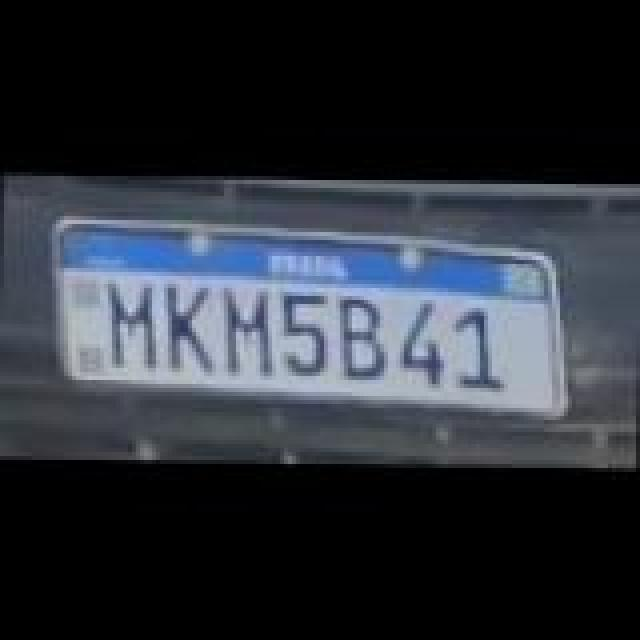1: (454, 306, 506, 386)
4: (400, 300, 448, 384)
5: (280, 290, 336, 374)
B: (338, 294, 390, 378)
K: (164, 282, 220, 370)
M: (104, 276, 160, 364), (220, 288, 276, 372)
